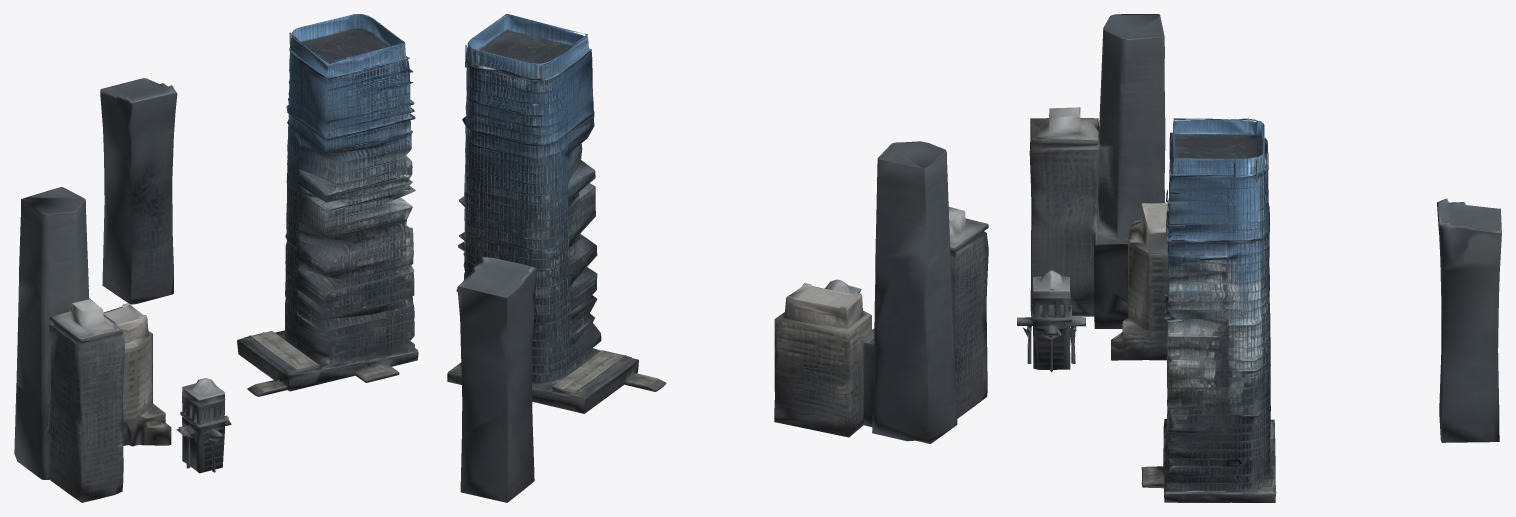
File: hochhaus_glas.glb
3 views of the same model, side by side, from view 1: azimuth 30°, elevation 25°; view 2: azimuth 150°, elevation 25°; view 3: azimuth 270°, elevation 25° (orthographic). The views are drawn at different scales.
Parts seen in each view (by area): view 1: tripo_node_16f45ded-b6d4-4c4b-9416-2c5aec003eec; view 2: tripo_node_16f45ded-b6d4-4c4b-9416-2c5aec003eec; view 3: tripo_node_16f45ded-b6d4-4c4b-9416-2c5aec003eec.
Boxes of the visible parts, x1,y1,x2,y2 form: tripo_node_16f45ded-b6d4-4c4b-9416-2c5aec003eec: [14, 14, 418, 502]; tripo_node_16f45ded-b6d4-4c4b-9416-2c5aec003eec: [447, 14, 988, 502]; tripo_node_16f45ded-b6d4-4c4b-9416-2c5aec003eec: [1017, 14, 1501, 502].
Size of the model in its own units: 0.9997 by 0.7476 by 0.964.
Materials: 1 (1 with a texture image).
